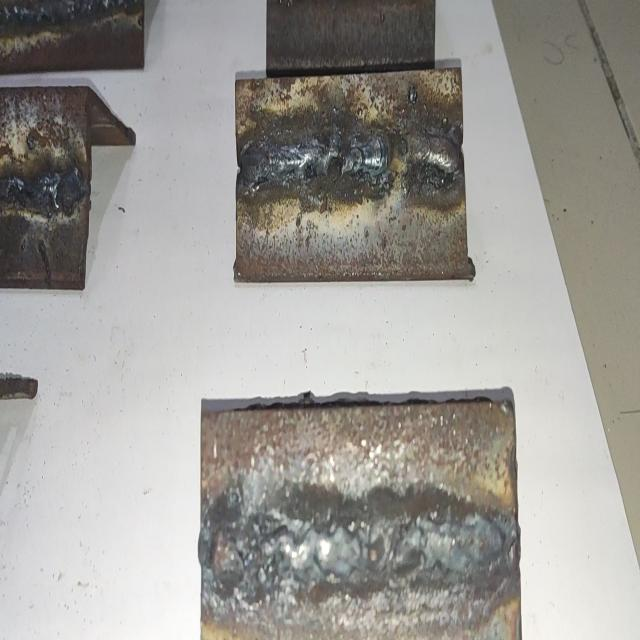Defect: (207, 512, 507, 602), (0, 166, 86, 219), (371, 122, 426, 186), (309, 124, 361, 190)
Welding Line: (205, 510, 514, 604), (238, 128, 462, 192), (0, 167, 84, 216)
Workpiece: (197, 400, 524, 640), (231, 71, 471, 282), (0, 79, 94, 291)
